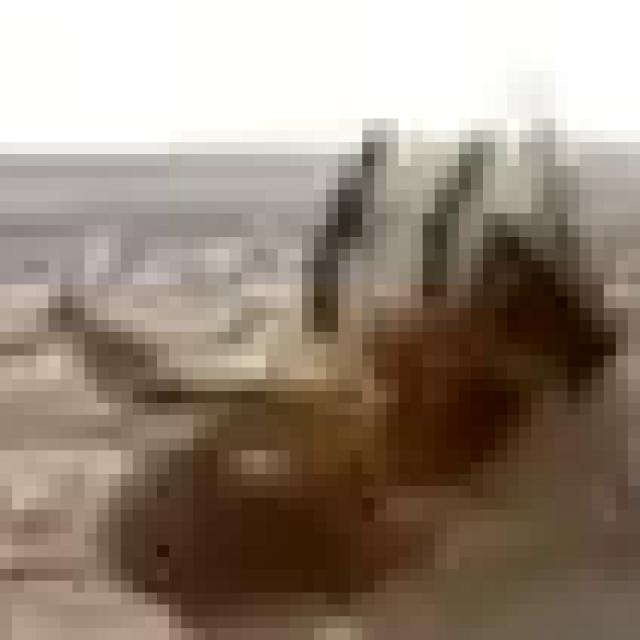honeybee: (130, 151, 618, 615)
